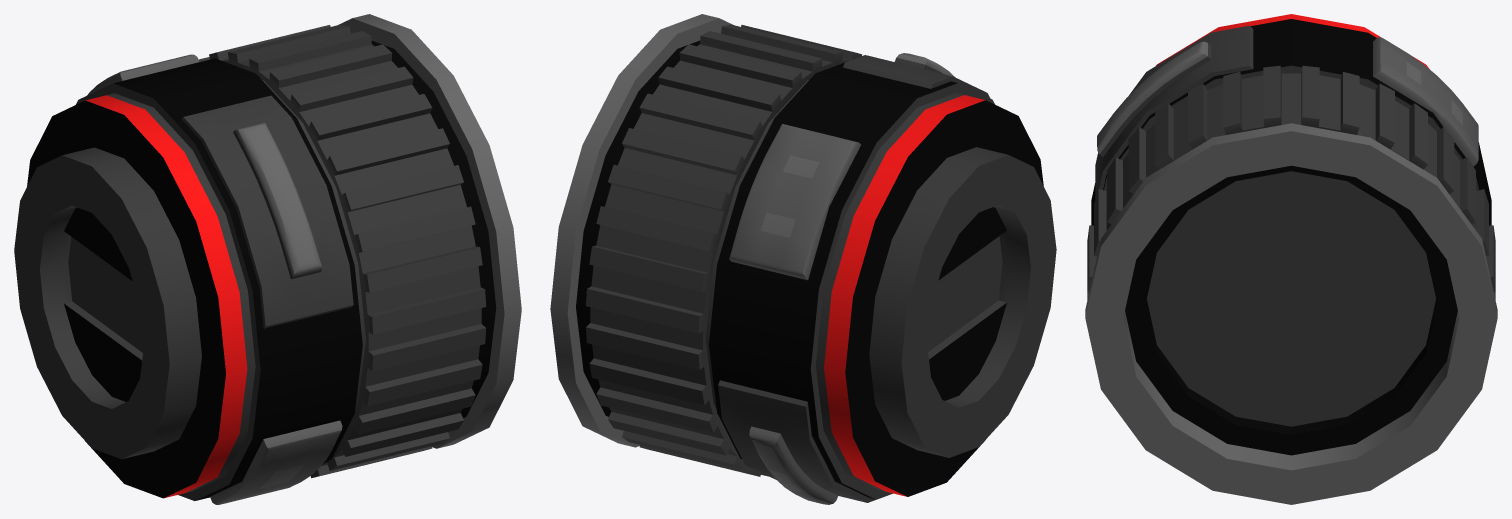
The model's file is CameraLens_02.glb.
3 renders of one model, left to right at view 1: azimuth 30°, elevation 25°; view 2: azimuth 150°, elevation 25°; view 3: azimuth 270°, elevation 25°, orthographic. The views are drawn at different scales.
Parts seen in each view (by area): view 1: Mesh_CameraLens_02; view 2: Mesh_CameraLens_02; view 3: Mesh_CameraLens_02.
Part boxes in pixels (x1,y1,x2,y2): Mesh_CameraLens_02: (14, 14, 521, 504); Mesh_CameraLens_02: (550, 14, 1056, 504); Mesh_CameraLens_02: (1085, 14, 1497, 504).
Size of the model in its own units: 0.0725 by 0.0865 by 0.0865.
1 material, 1 textured.
